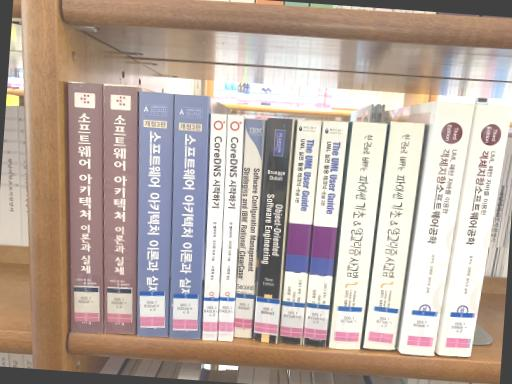book-spine: (437, 103, 512, 357), (400, 101, 474, 357), (363, 122, 425, 350), (328, 122, 388, 349), (301, 121, 349, 347), (169, 94, 209, 339), (279, 119, 322, 346), (136, 92, 173, 337), (253, 118, 292, 344), (68, 82, 102, 333), (104, 85, 138, 335), (234, 119, 263, 339), (202, 113, 226, 340), (218, 115, 242, 341)
